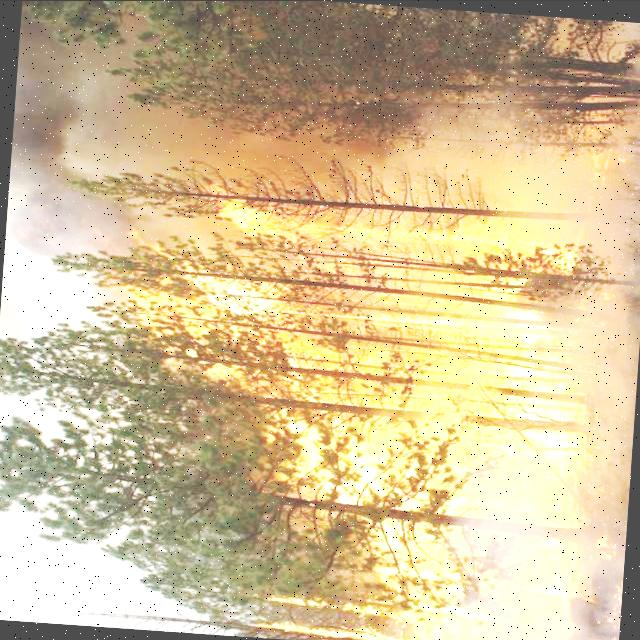api: (216, 194, 546, 266), (372, 520, 574, 635), (270, 406, 451, 499), (146, 286, 336, 344)
asap: (148, 102, 612, 198), (10, 1, 133, 271), (583, 185, 640, 414)
